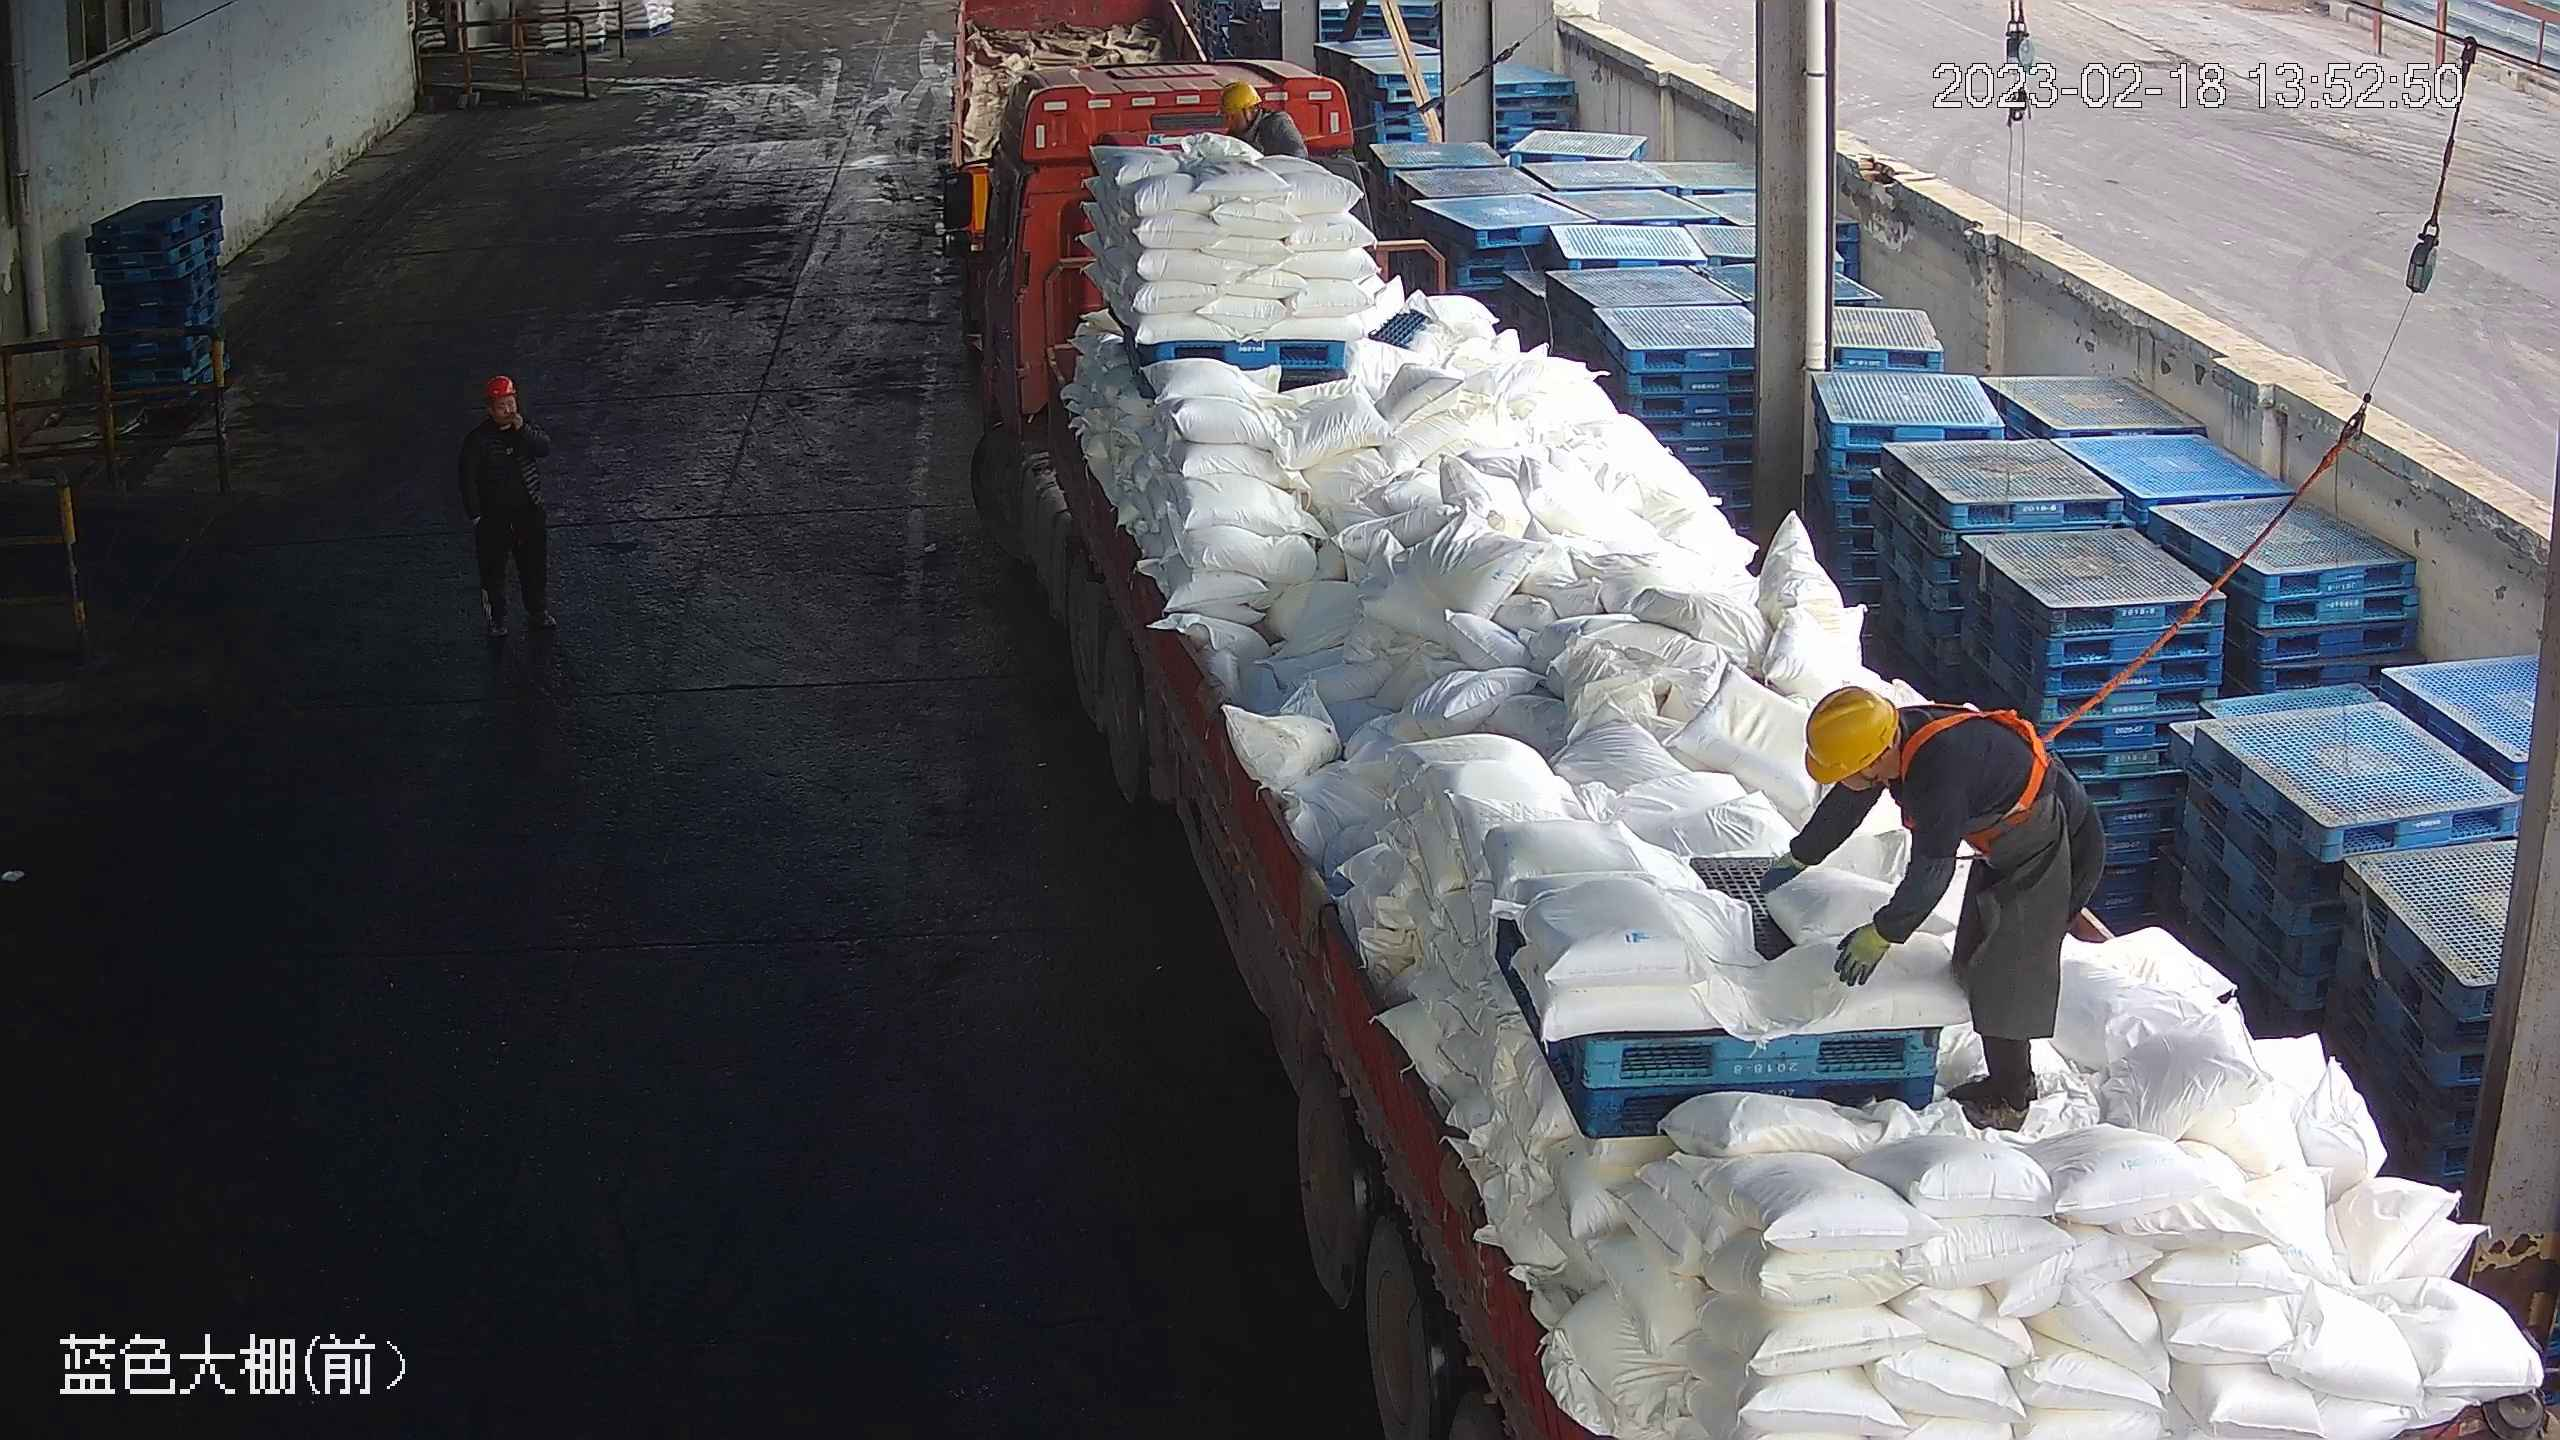belt: (1894, 677, 2092, 854), (1244, 106, 1330, 165)
head: (1803, 689, 2008, 869), (457, 371, 552, 471), (1220, 83, 1315, 164)
helmet: (1801, 686, 1900, 789), (1222, 79, 1259, 113), (483, 371, 512, 398)
people: (1761, 683, 2113, 1137), (457, 372, 562, 645)
truck: (925, 54, 2560, 1440)
